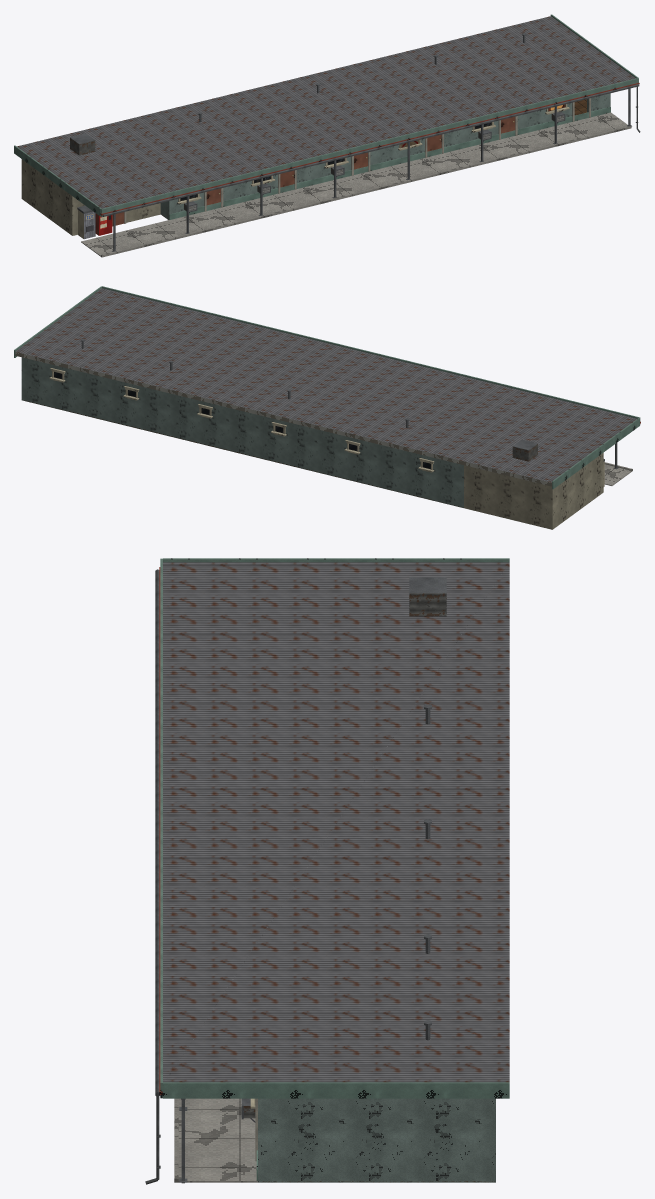
File: motel.glb
3 renders of one model, top to bottom at view 1: azimuth 30°, elevation 25°; view 2: azimuth 150°, elevation 25°; view 3: azimuth 270°, elevation 25°, orthographic. The views are drawn at different scales.
Visible parts, largest first — view 1: detail, shell-col; view 2: detail, shell-col; view 3: detail, shell-col.
Boxes of the visible parts, x1=… form: detail: x1=14, y1=14, x2=640, y2=257; shell-col: x1=21, y1=93, x2=627, y2=256; detail: x1=14, y1=286, x2=640, y2=489; shell-col: x1=21, y1=357, x2=632, y2=529; detail: x1=145, y1=558, x2=509, y2=1184; shell-col: x1=176, y1=1098, x2=495, y2=1182.
Bounding box in the file's own units: 36.56 × 4.01 × 10.71.
Materials: 51 (51 with a texture image).
